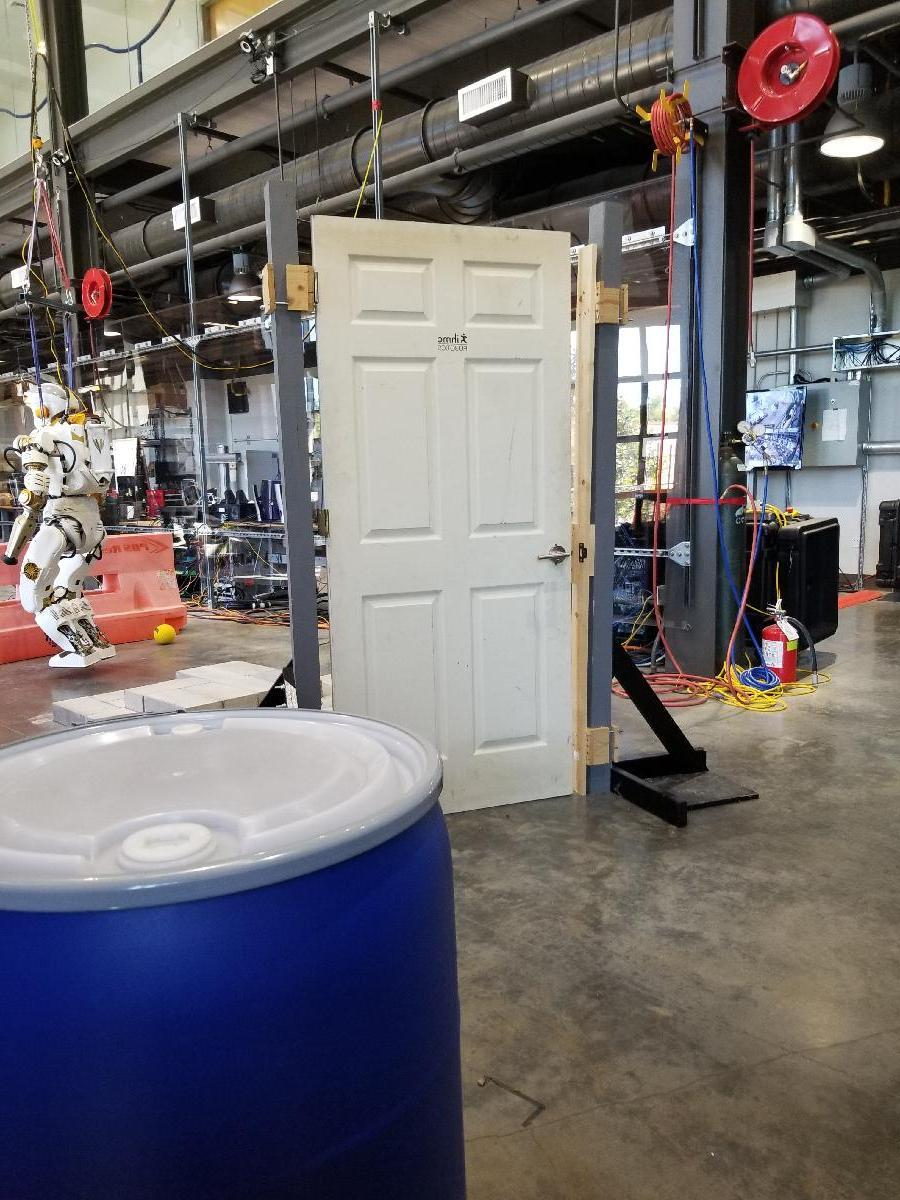door: (326, 223, 574, 813)
handle: (536, 544, 572, 566)
